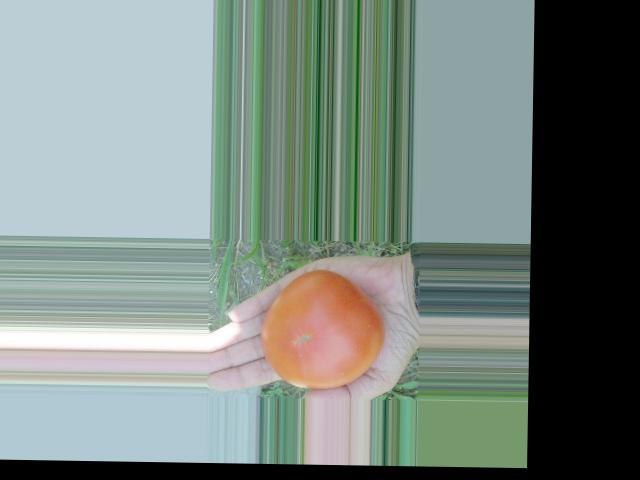tomato: (260, 268, 384, 389)
